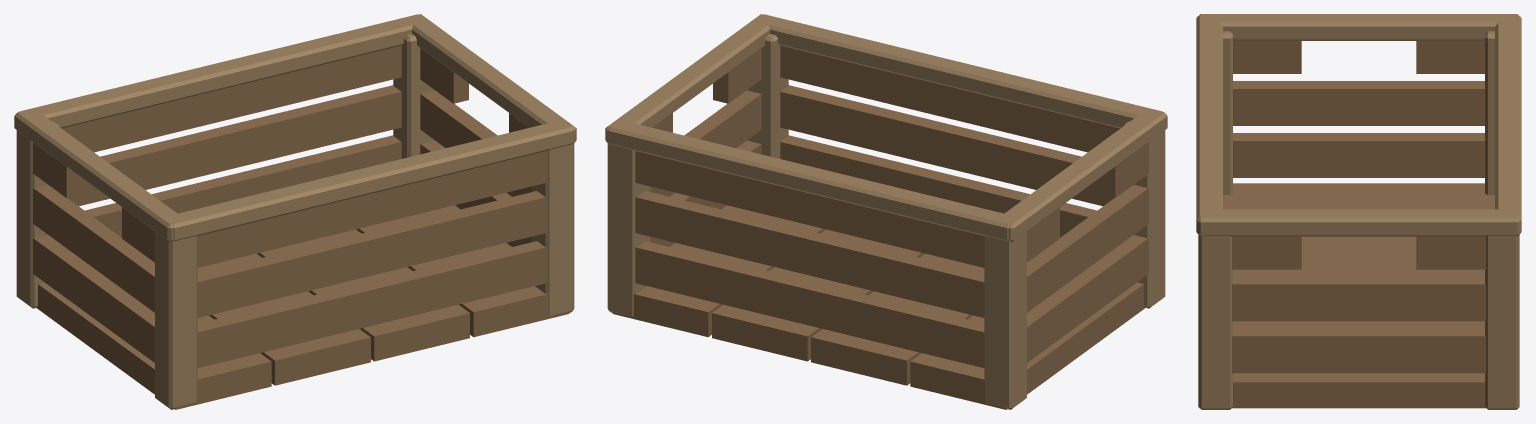
File: wood_crate_open.glb
3 renders of one model, left to right at view 1: azimuth 30°, elevation 25°; view 2: azimuth 150°, elevation 25°; view 3: azimuth 270°, elevation 25°, orthographic. The views are drawn at different scales.
Visible parts, largest first — view 1: wood_crate_open; view 2: wood_crate_open; view 3: wood_crate_open.
Boxes of the visible parts, box(x1,y1,x2,y2) form: wood_crate_open: box(14, 14, 576, 409); wood_crate_open: box(605, 14, 1167, 409); wood_crate_open: box(1196, 14, 1521, 409).
Size of the model in its own units: 1.19 by 0.52 by 0.795.
